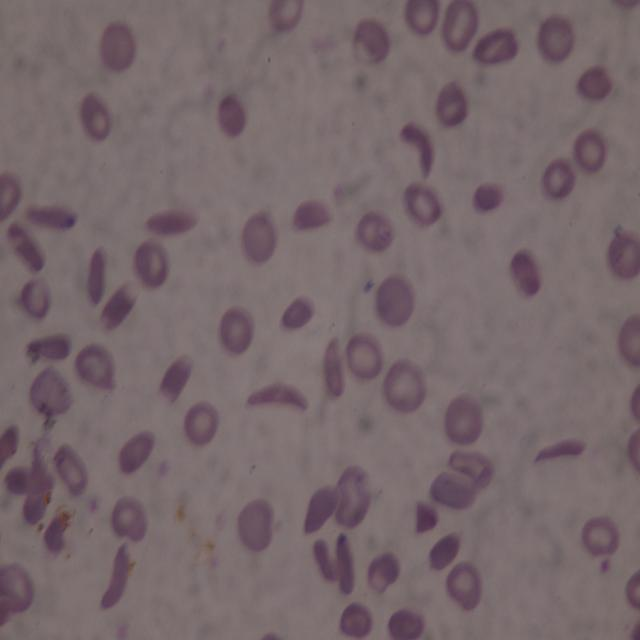Crystal: (5, 220, 44, 271), (142, 208, 197, 237), (27, 204, 77, 232), (324, 335, 346, 398), (334, 533, 356, 596), (87, 246, 107, 309), (312, 539, 338, 583)
Normal: (382, 358, 425, 415), (444, 394, 483, 448), (536, 15, 574, 64), (220, 305, 255, 356), (348, 334, 386, 379), (582, 514, 620, 558), (446, 563, 482, 607), (184, 401, 218, 447), (614, 311, 640, 369), (542, 157, 576, 201), (573, 128, 606, 173), (404, 0, 438, 36)
Others: (333, 465, 372, 529), (236, 496, 274, 554), (23, 440, 50, 521), (302, 482, 342, 535), (442, 1, 481, 53), (375, 274, 414, 325), (28, 371, 74, 413), (75, 344, 115, 390), (401, 182, 441, 227), (102, 283, 139, 331), (473, 28, 518, 67), (607, 227, 640, 280), (110, 496, 146, 544), (353, 18, 390, 64), (100, 22, 134, 72), (354, 211, 396, 251), (431, 471, 473, 511), (447, 449, 491, 487), (55, 444, 87, 496), (243, 215, 275, 267), (278, 294, 317, 336), (133, 242, 168, 288), (435, 81, 469, 128), (428, 527, 463, 572), (159, 356, 193, 402), (120, 429, 154, 474), (1, 563, 32, 612), (510, 251, 541, 300), (4, 463, 51, 495), (81, 94, 111, 141), (26, 332, 72, 360), (266, 0, 305, 33), (386, 607, 426, 639), (218, 94, 247, 138), (576, 67, 612, 100), (292, 201, 332, 230), (0, 174, 21, 228), (340, 603, 372, 638), (45, 509, 69, 554), (470, 182, 503, 214), (23, 281, 51, 317), (364, 554, 390, 592), (0, 423, 20, 467), (414, 502, 439, 534), (623, 570, 640, 610), (625, 427, 640, 472), (0, 592, 15, 630), (381, 552, 400, 581), (629, 383, 640, 425), (609, 0, 640, 11)
Sickle: (98, 542, 130, 610), (398, 122, 434, 181), (244, 383, 310, 413), (531, 436, 586, 466)
